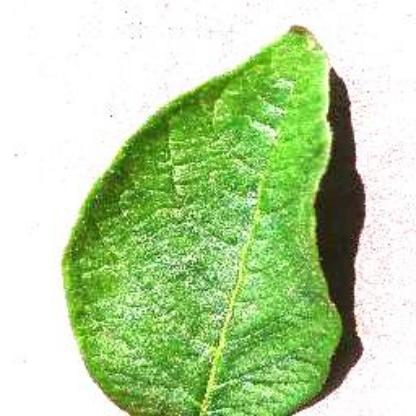Healthy-plant: (58, 19, 358, 416)
